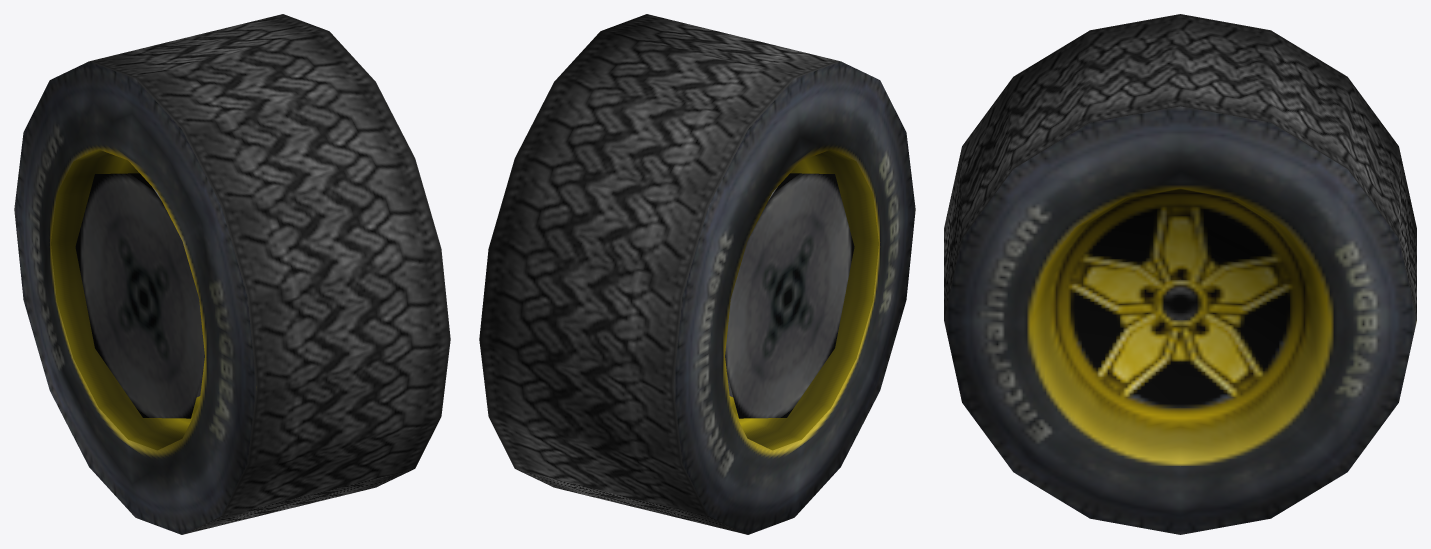
Rendered from wheel_rear_right.glb.
3 renders of one model, left to right at view 1: azimuth 30°, elevation 25°; view 2: azimuth 150°, elevation 25°; view 3: azimuth 270°, elevation 25°, orthographic. The views are drawn at different scales.
Parts seen in each view (by area): view 1: tire_rr; view 2: tire_rr; view 3: tire_rr.
Part boxes in pixels (box(x1,y1,x2,y2)): tire_rr: box(14, 14, 450, 534); tire_rr: box(479, 14, 915, 534); tire_rr: box(944, 14, 1416, 534).
Size of the model in its own units: 0.318 by 0.6384 by 0.6384.
Materials: 2 (2 with a texture image).
